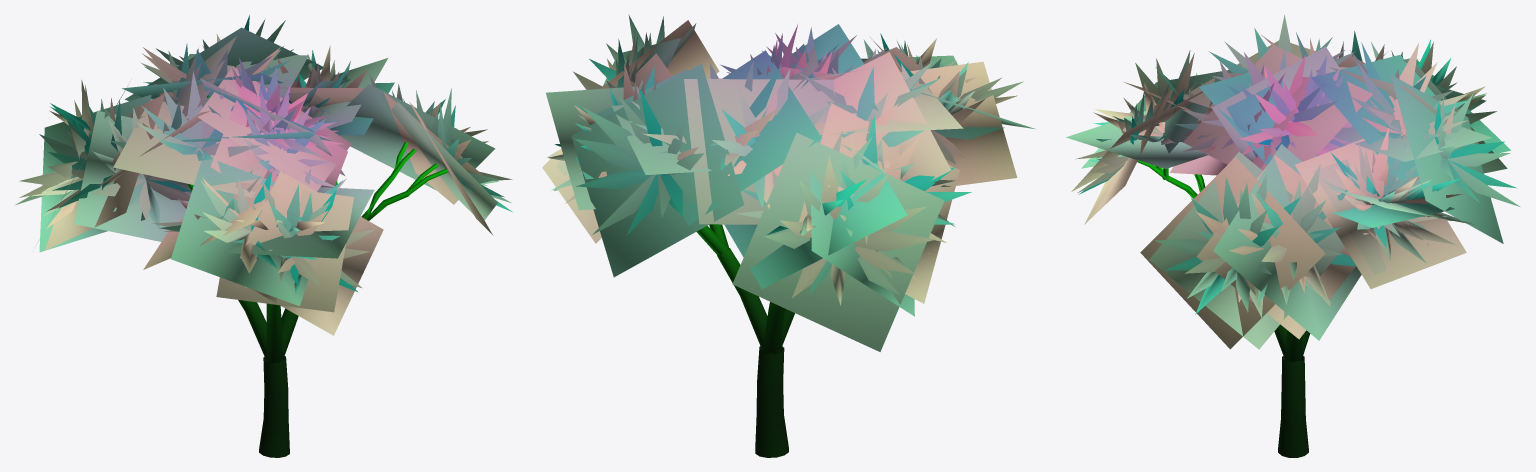
File: frangipani_2.glb
The picture shows the model from 3 angles, left to right: view 1: azimuth 30°, elevation 25°; view 2: azimuth 150°, elevation 25°; view 3: azimuth 270°, elevation 25°; orthographic projection. The views are drawn at different scales.
Visible parts, largest first — view 1: mid, near; view 2: mid, near; view 3: mid, near.
Part boxes in pixels (x1,y1,x2,y2): mid: [32, 27, 497, 363]; near: [15, 15, 512, 457]; mid: [542, 20, 1034, 354]; near: [546, 14, 1023, 457]; mid: [1066, 35, 1510, 361]; near: [1075, 15, 1520, 457].
Bounding box in the file's own units: 6.08 × 5.58 × 5.94.
